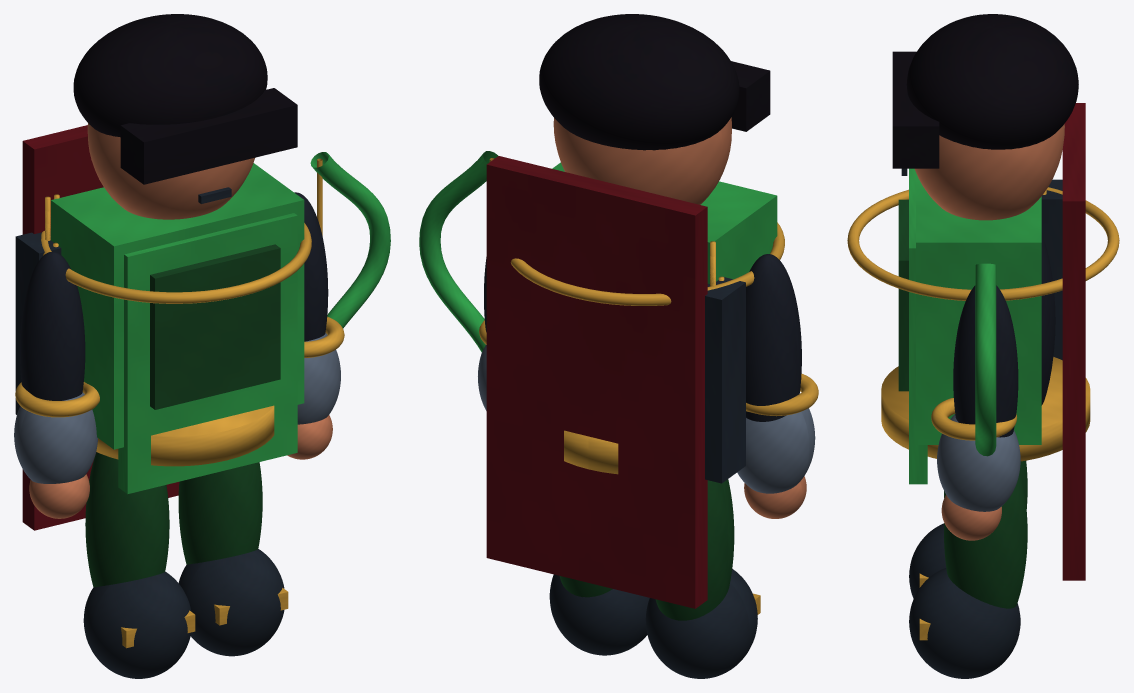
File: Foundation.glb
3 renders of one model, left to right at view 1: azimuth 30°, elevation 25°; view 2: azimuth 150°, elevation 25°; view 3: azimuth 270°, elevation 25°, orthographic. The views are drawn at different scales.
Visible parts, largest first — view 1: ArcherTunic, ChestPlate, Hair, LeatherChestGuard, HairFringe, Boot, Leg, Boot.001, Arm, Leg.001, Cape, Head (+11 smaller); view 2: Cape, Hair, Quiver, Head, Arm, Boot, ChestPlate, Boot.001, Gauntlet, Bow, Leg, ShoulderCrest (+5 smaller); view 3: Hair, ChestPlate, Cape, Head, Boot.001, Leg.001, Arm.001, Gauntlet.001, ShoulderCrest, WaistGuard, Bow, HairFringe (+7 smaller).
Boxes of the visible parts, x1,y1,x2,y2 form: ArcherTunic: [118, 213, 297, 494]; ChestPlate: [51, 163, 304, 449]; Hair: [73, 14, 267, 137]; LeatherChestGuard: [150, 244, 280, 409]; HairFringe: [120, 88, 297, 184]; Boot: [83, 571, 191, 678]; Leg: [85, 452, 169, 587]; Boot.001: [178, 549, 284, 656]; Arm: [20, 251, 85, 400]; Leg.001: [178, 462, 262, 564]; Cape: [22, 125, 179, 530]; Head: [87, 123, 254, 219]; Cape: [486, 156, 707, 608]; Hair: [539, 14, 739, 150]; Quiver: [705, 277, 745, 483]; Head: [553, 117, 731, 204]; Arm: [746, 254, 801, 421]; Boot: [645, 569, 757, 678]; ChestPlate: [552, 162, 777, 283]; Boot.001: [549, 574, 649, 655]; Gauntlet: [737, 408, 815, 493]; Bow: [419, 151, 498, 352]; Leg: [655, 479, 734, 620]; ShoulderCrest: [510, 222, 784, 305]; Hair: [906, 14, 1078, 149]; ChestPlate: [916, 173, 1041, 444]; Cape: [1062, 103, 1085, 580]; Head: [914, 124, 1064, 220]; Boot.001: [909, 568, 1020, 678]; Leg.001: [944, 471, 1027, 608]; Arm.001: [953, 285, 1018, 437]; Gauntlet.001: [937, 414, 1020, 511]; ShoulderCrest: [847, 187, 1119, 300]; WaistGuard: [881, 357, 1090, 461]; Bow: [975, 263, 996, 456]; HairFringe: [892, 51, 939, 168].
Bounding box in the file's own units: 1.85 × 2.96 × 1.17.
11 materials, 9 textured.
